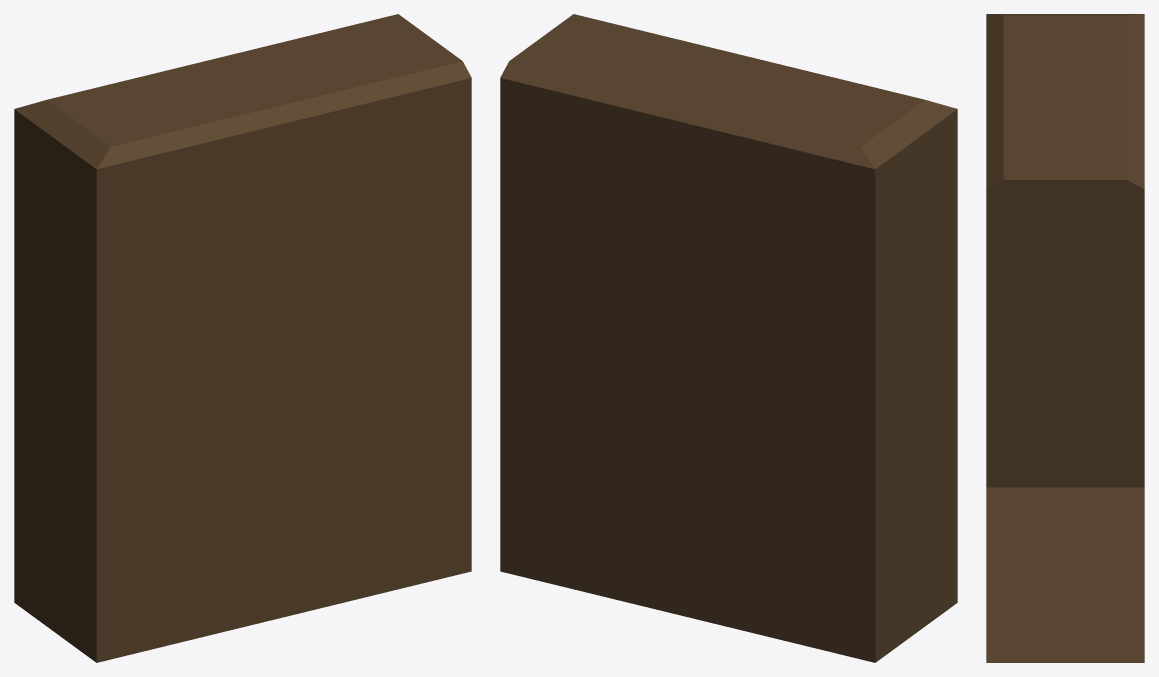
The model's file is Itr_Couch_Outside_Back_Left_04.FBX.
3 views of the same model, side by side, from view 1: azimuth 30°, elevation 25°; view 2: azimuth 150°, elevation 25°; view 3: azimuth 270°, elevation 25° (orthographic). The views are drawn at different scales.
Parts seen in each view (by area): view 1: Itr_Couch_Outside_Back_Left_04; view 2: Itr_Couch_Outside_Back_Left_04; view 3: Itr_Couch_Outside_Back_Left_04.
Part boxes in pixels (box(x1,y1,x2,y2)): Itr_Couch_Outside_Back_Left_04: box(14, 14, 471, 662); Itr_Couch_Outside_Back_Left_04: box(500, 14, 957, 662); Itr_Couch_Outside_Back_Left_04: box(986, 14, 1144, 662).
Size of the model in its own units: 18.89 by 24.24 by 7.19.
